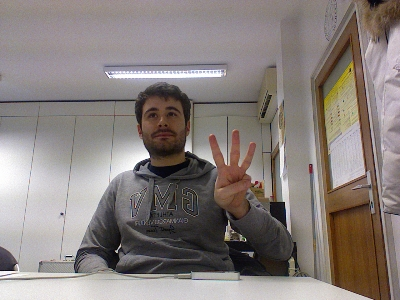三分: (207, 128, 256, 214)
